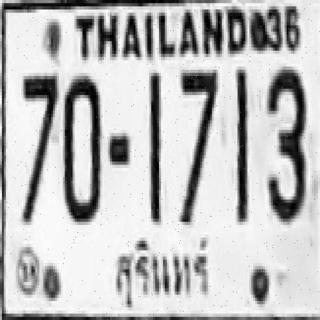N00: (62, 73, 101, 219)
N01: (234, 68, 248, 220), (147, 70, 161, 222)
N03: (265, 66, 304, 218)
N07: (179, 68, 216, 223), (22, 73, 57, 222), (22, 73, 57, 184)
P68: (105, 232, 215, 312)
